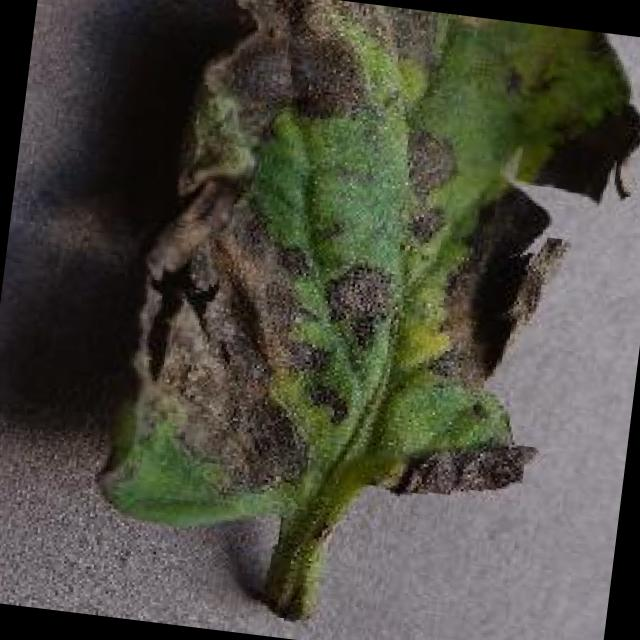Tomato_Early_Blight: (78, 4, 594, 578)
